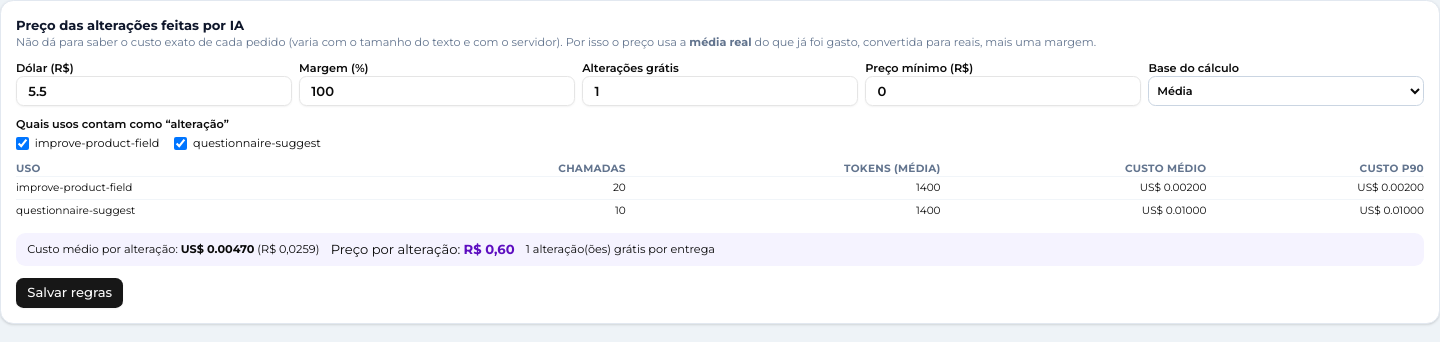
Preço das alterações por IA (tela) › salva as regras editadas (inclusive os usos escolhidos) e mostra o novo preço
Check: the element with test id "price-result" is shown, box top-left (16, 232), bottom-right (1424, 266)
Replace the text in the number field labelled "Margem" with "150": (437, 91) top-left (299, 76), bottom-right (575, 106)
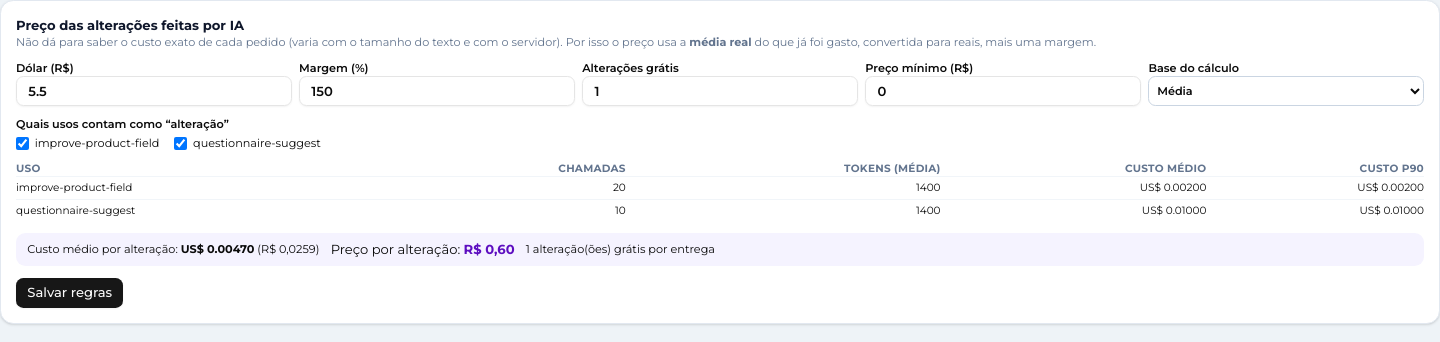
Select "Percentil 90 (mais seguro)" in the dropdown labelled "Base do cálculo": (1286, 91) top-left (1148, 76), bottom-right (1424, 106)
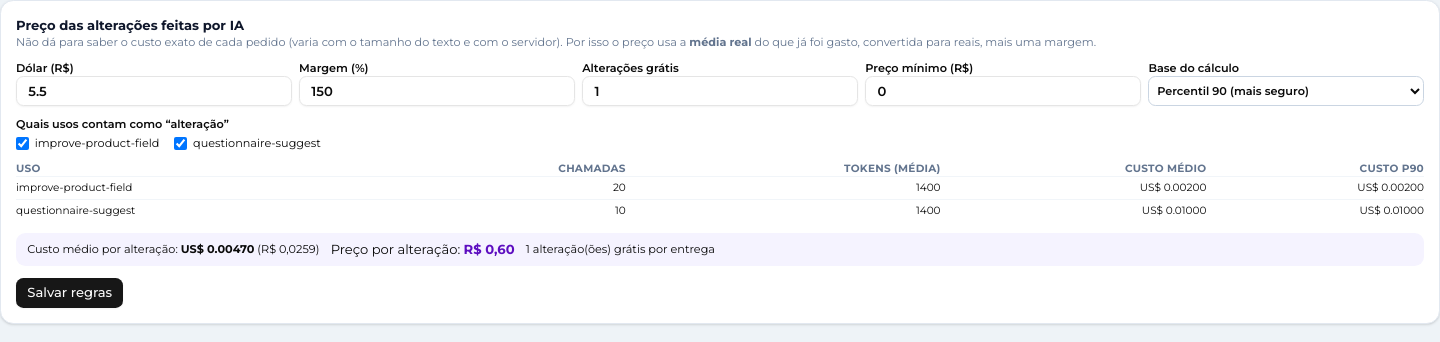
Click the checkbox named "Contar questionnaire-suggest": click(181, 144) top-left (174, 137), bottom-right (187, 150)
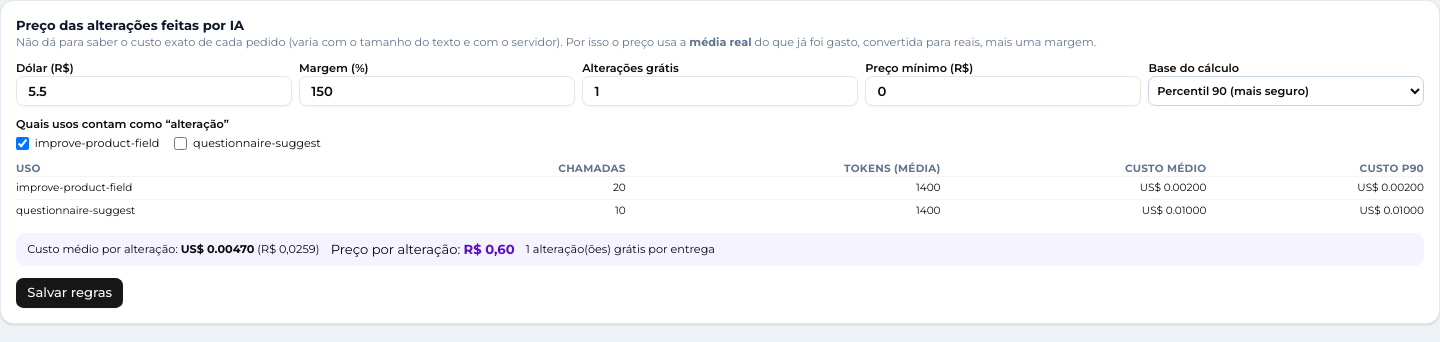
Click the button "Salvar regras": click(70, 292) top-left (16, 278), bottom-right (123, 308)
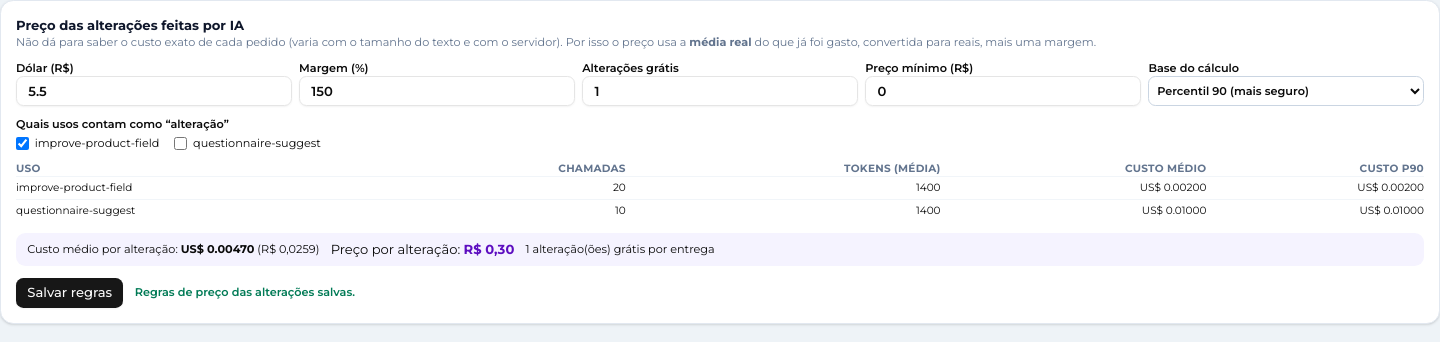
Check: the text "Regras de preço das alterações salvas." is shown, box top-left (135, 285), bottom-right (355, 300)
Check: the element with test id "price-result" shows "0,30", box top-left (464, 241), bottom-right (514, 257)
